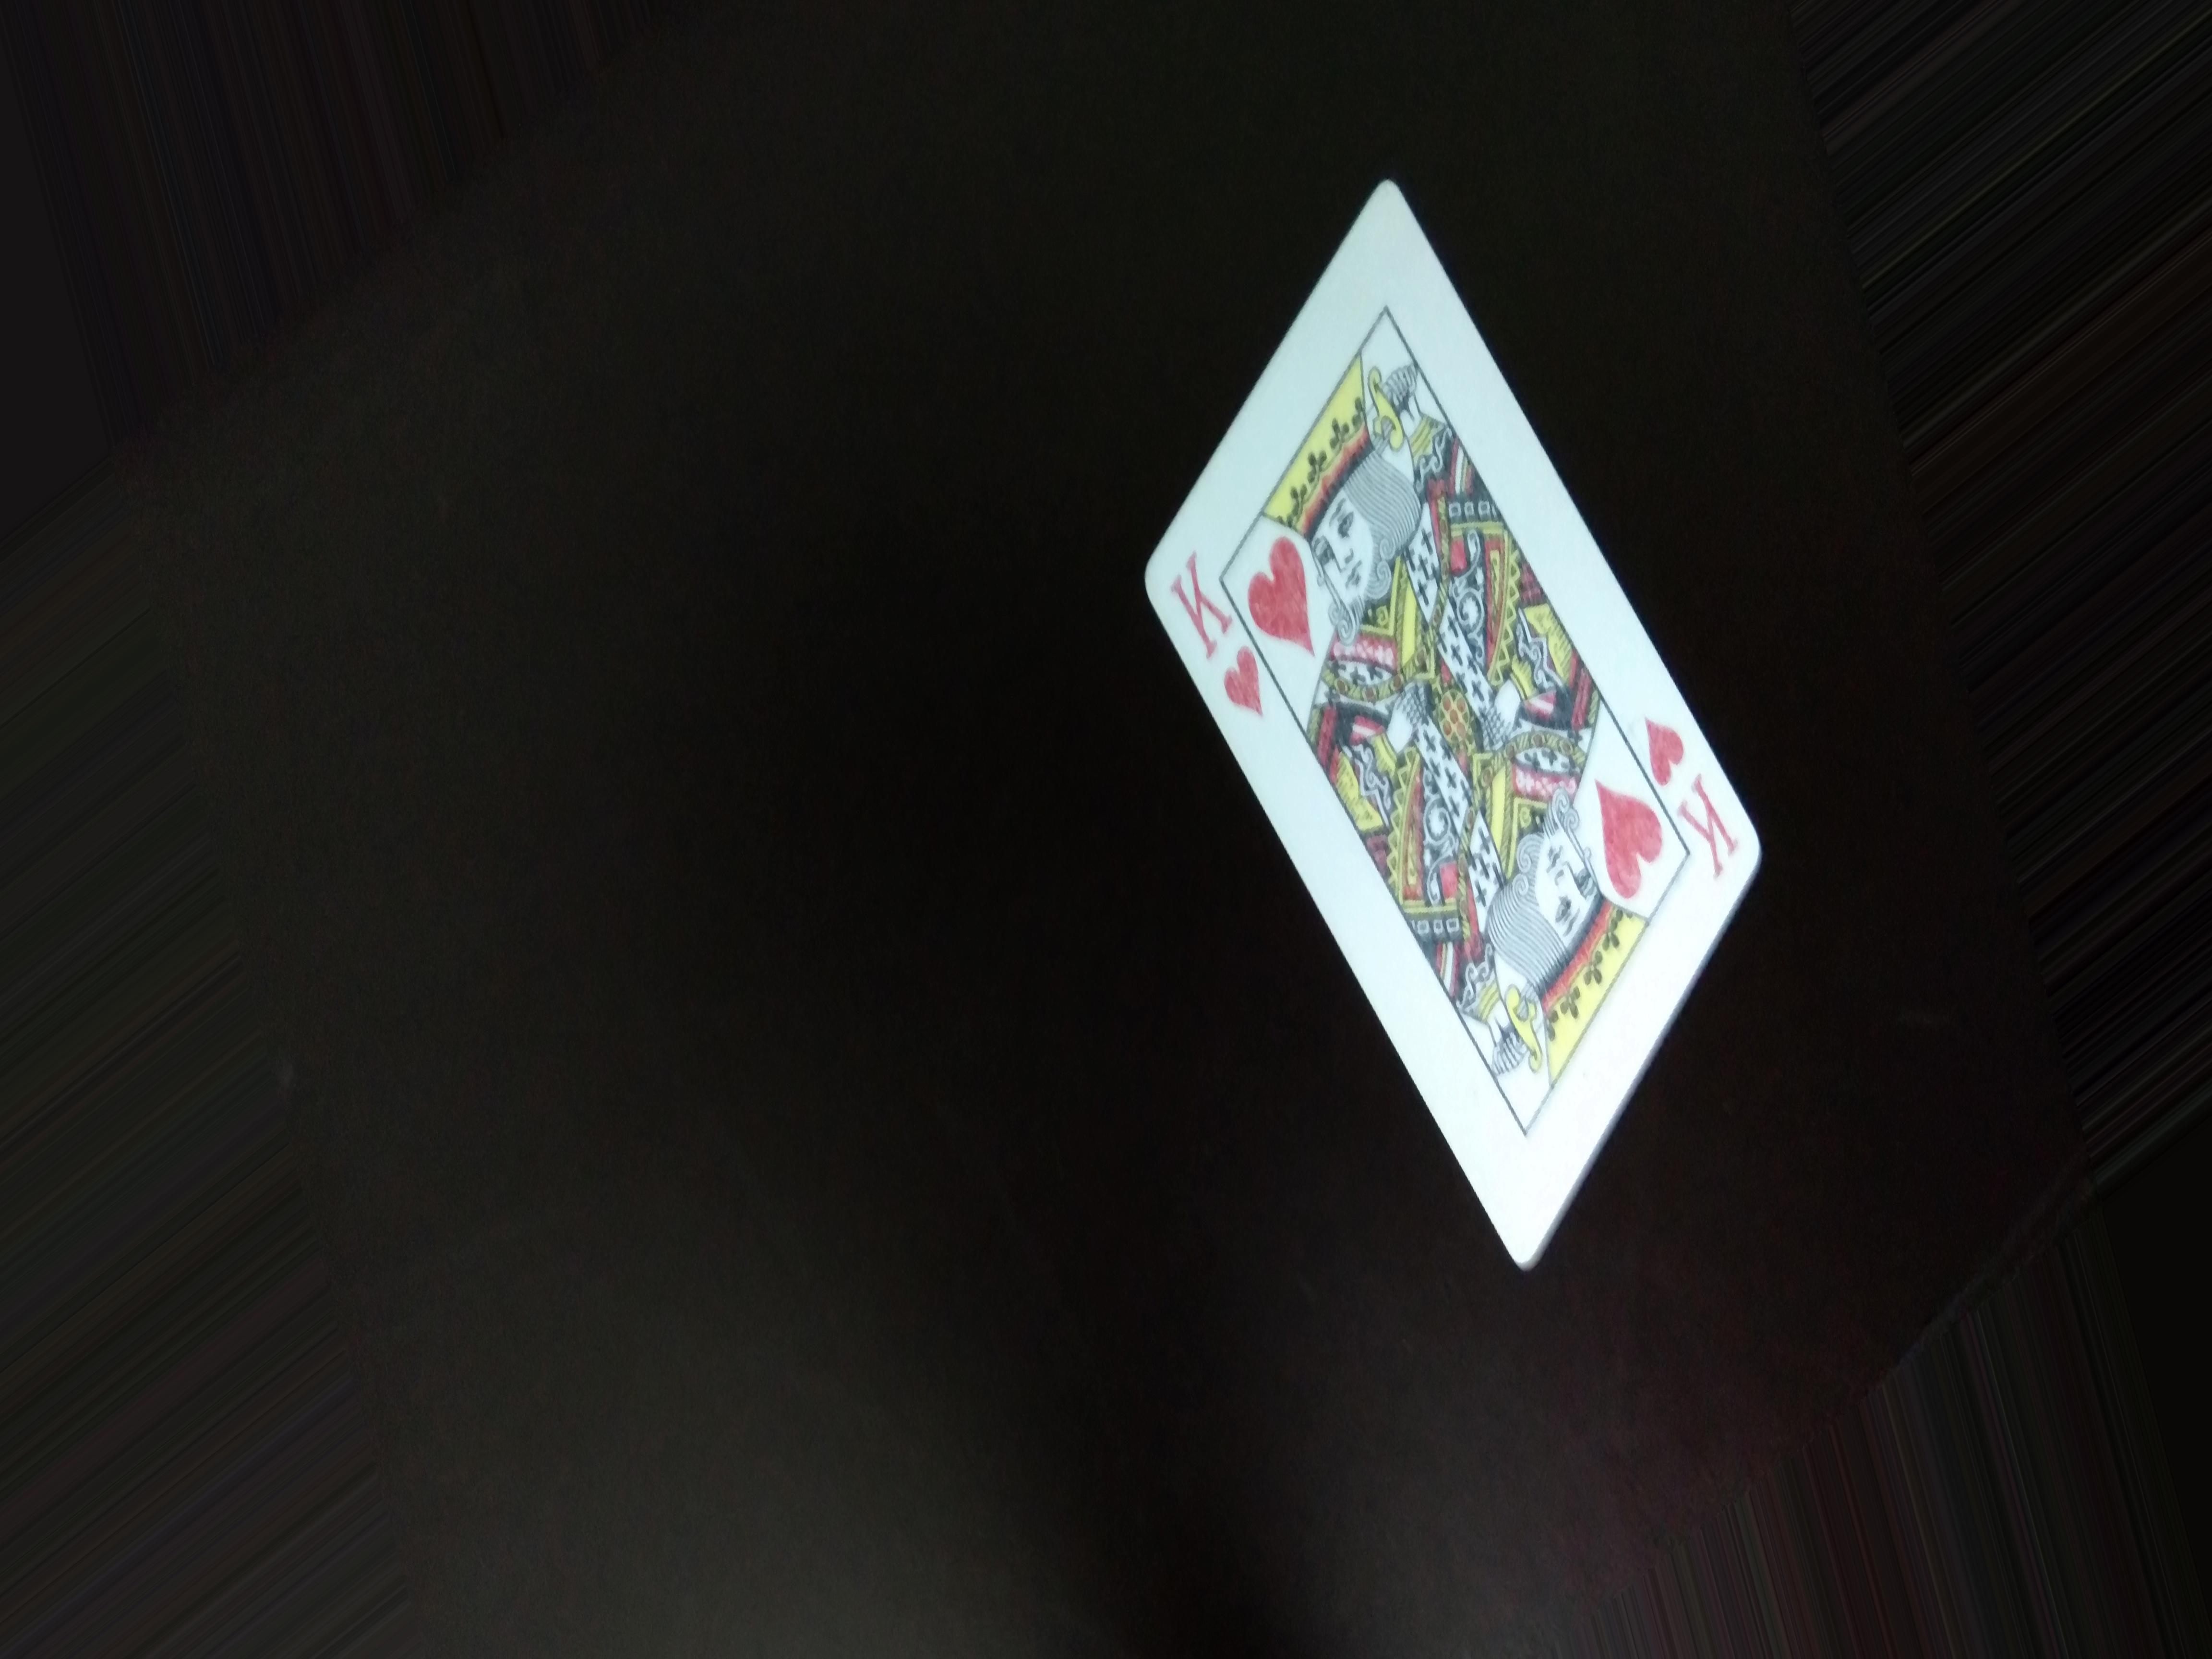KH: (1170, 542, 1258, 728)
